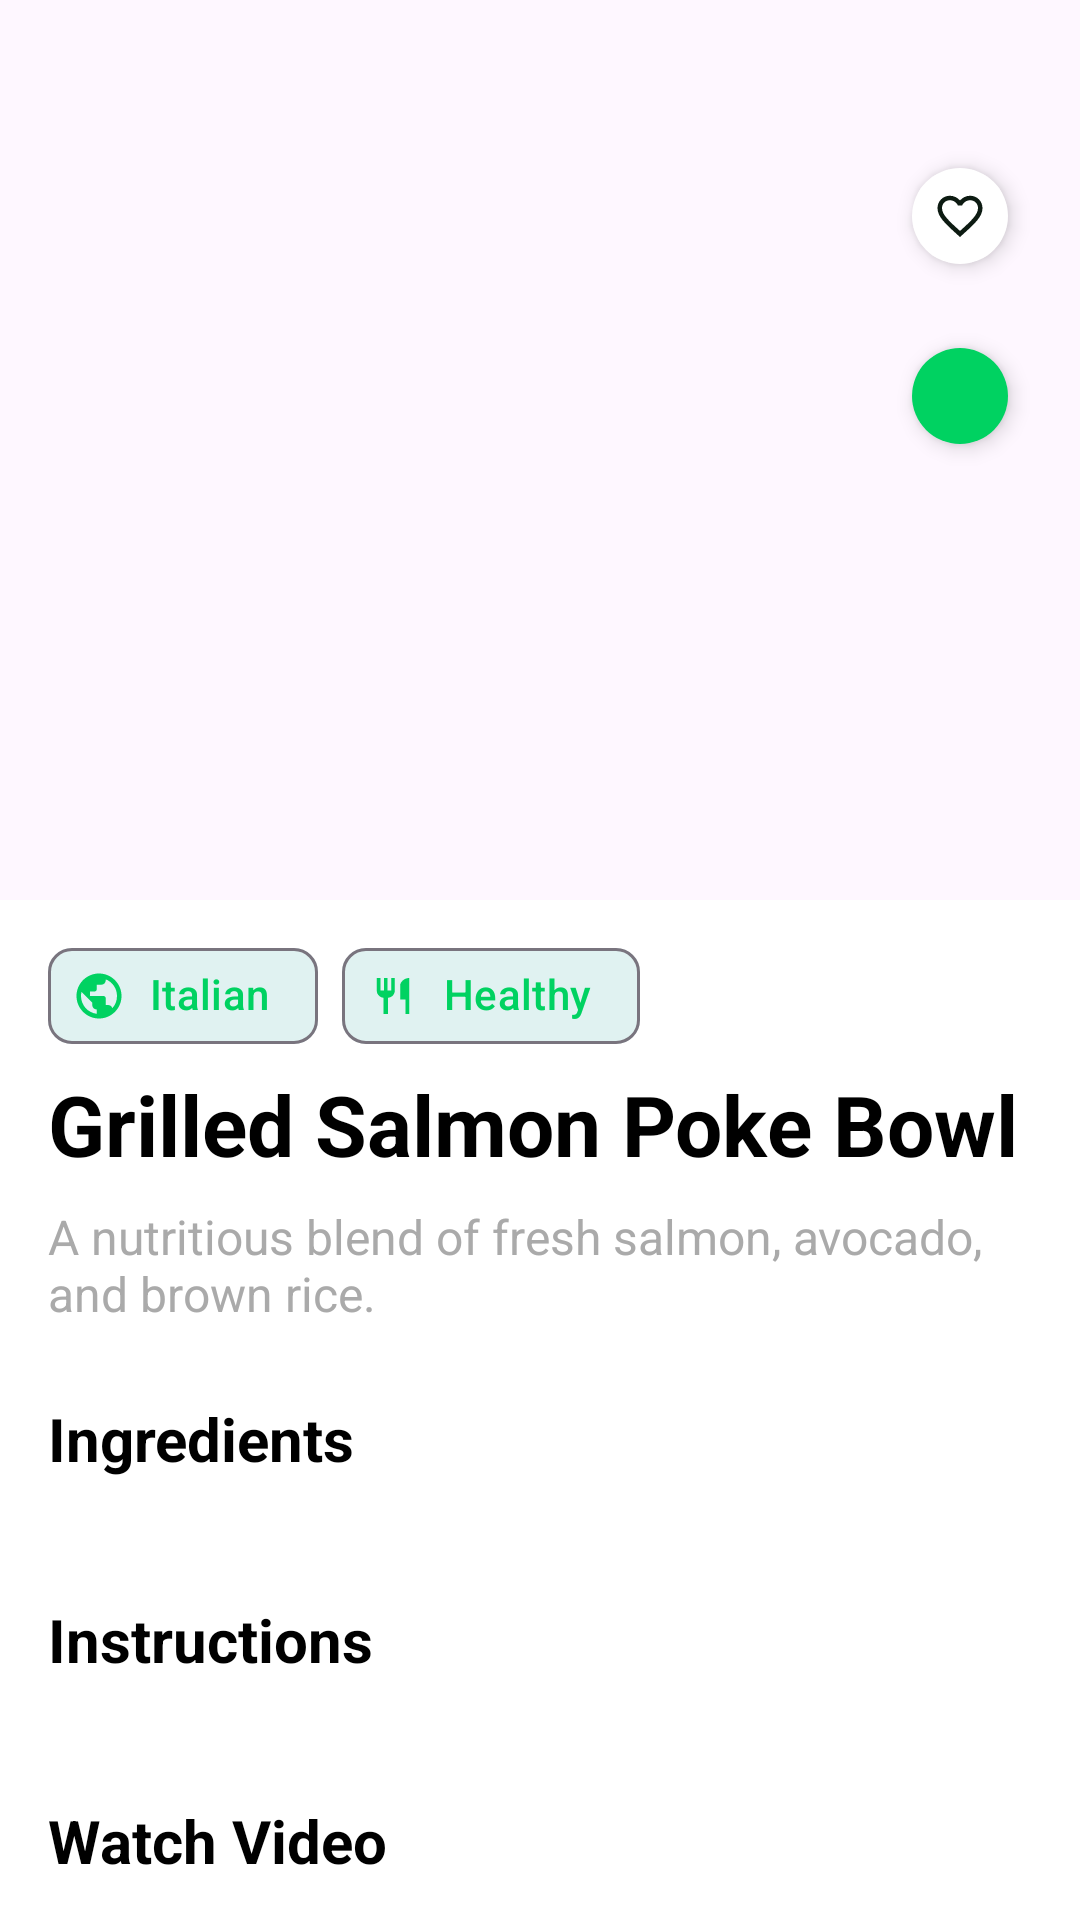

Icon bounding boxes for this 1080px x 1920px phone screenshot, format (x1, y1, x2, y2):
favorite border: (937, 175, 1010, 265)
